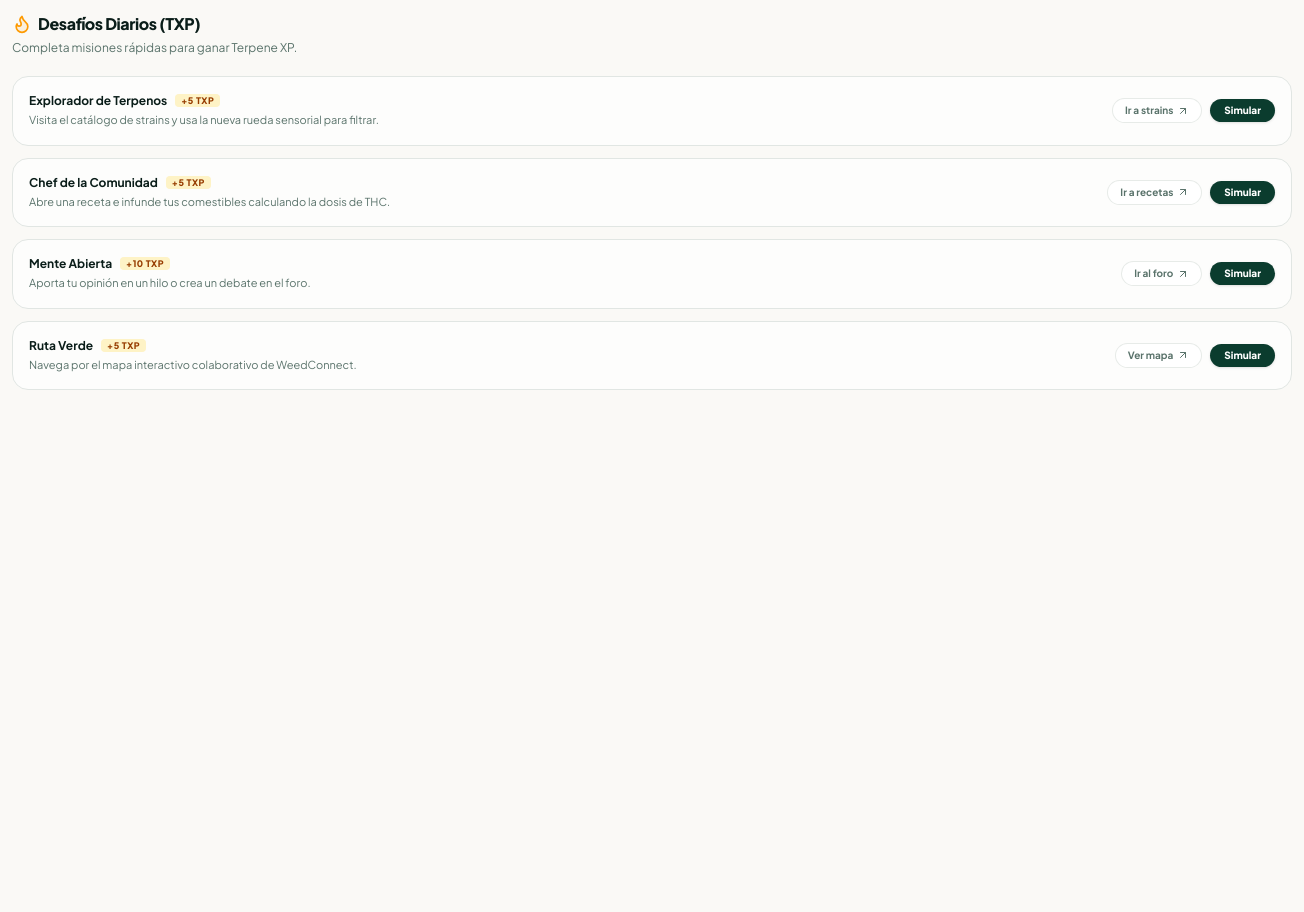
Test: DailyQuests Component › renders daily quests list and allows simulating a quest completion
The image size is (1304, 912).
Expected: the heading "Explorador de Terpenos" is shown, [29, 93, 167, 108]
Expected: the heading "Chef de la Comunidad" is shown, [29, 174, 158, 190]
// Simular la primera misión ("Explorador de Terpenos", +5 TXP)
Step 1. Click the button "Simular" next to "Ir a strains" → {"x": 1243, "y": 111}, box [1210, 99, 1275, 122]
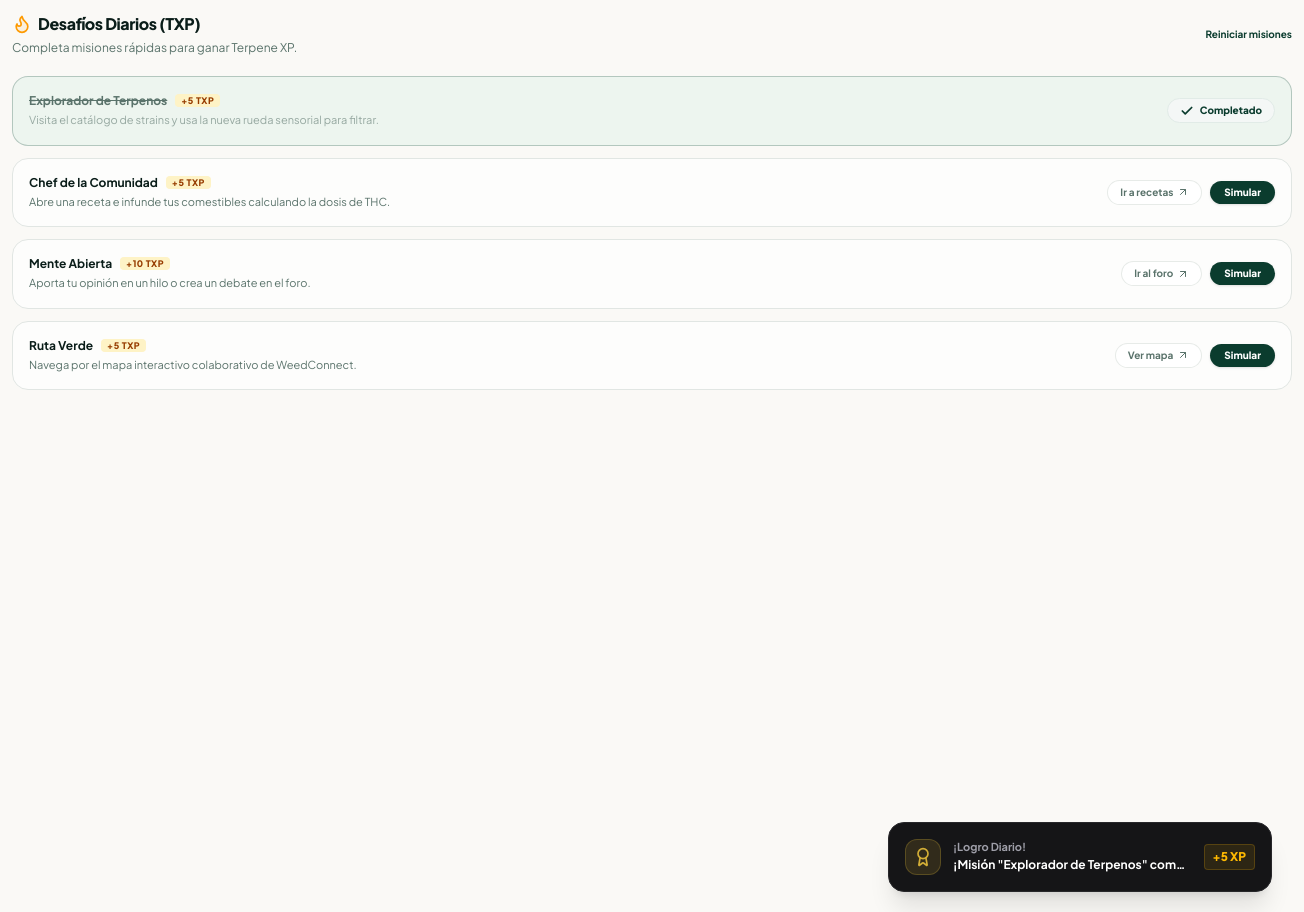
Expected: the text "Completado" is shown, [1167, 98, 1275, 123]
